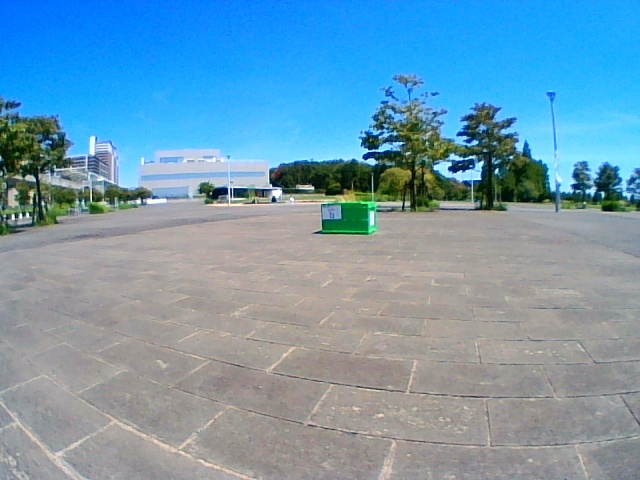green_box: (322, 202, 376, 234)
tag: (322, 206, 340, 218)
